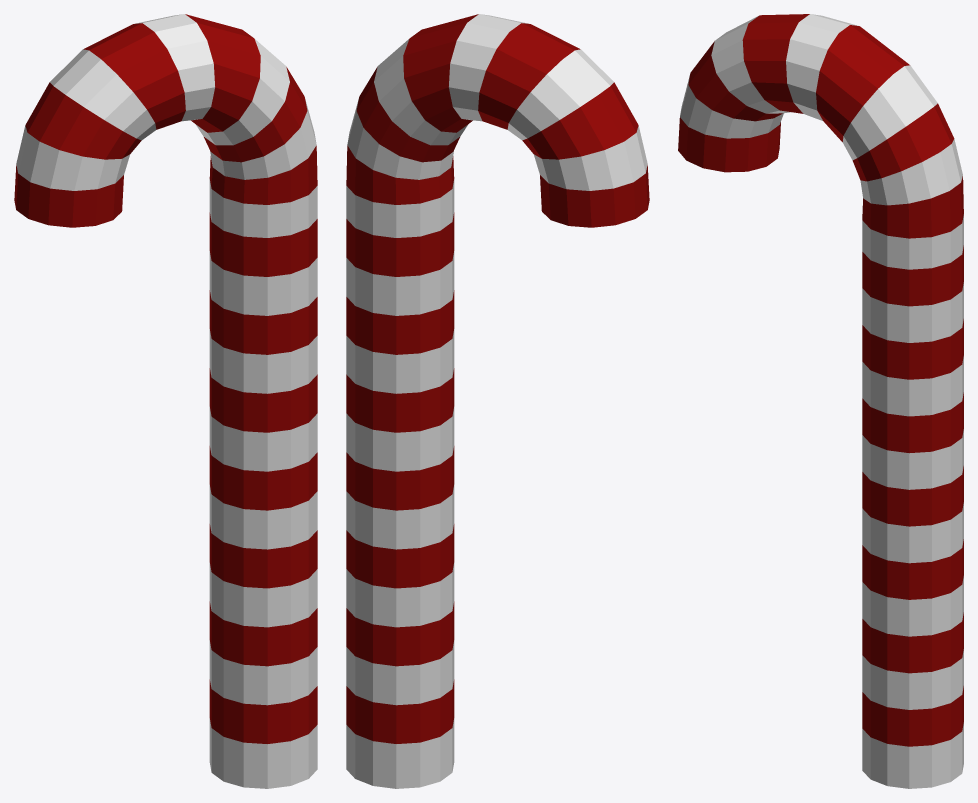
Rendered from CandyCane.obj.
3 views of the same model, side by side, from view 1: azimuth 30°, elevation 25°; view 2: azimuth 150°, elevation 25°; view 3: azimuth 330°, elevation 25° (orthographic). The views are drawn at different scales.
Visible parts, largest first — view 1: Cylinder_Material.002, Cylinder_Material.001; view 2: Cylinder_Material.002, Cylinder_Material.001; view 3: Cylinder_Material.002, Cylinder_Material.001.
Part boxes in pixels (x1,y1,x2,y2): Cylinder_Material.002: (14,14,317,743); Cylinder_Material.001: (16,14,317,788); Cylinder_Material.002: (346,14,649,743); Cylinder_Material.001: (346,14,647,788); Cylinder_Material.002: (678,14,963,746); Cylinder_Material.001: (680,14,963,788).
Bounding box in the file's own units: 1.6 × 4.08 × 0.5265.
